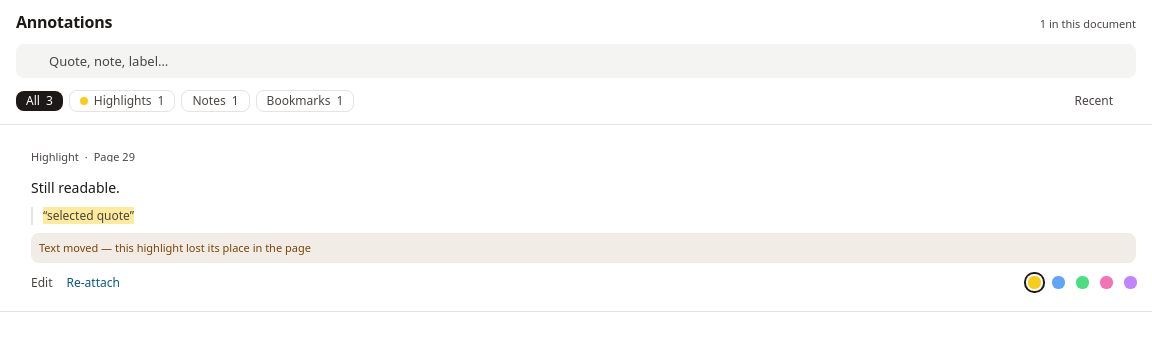
annotations panel — reference design 4a › warns only for a lost anchor and routes re-attachment through the reader
Expected: the text with test id "annotation-unanchored-warning" reads "Text moved — this highlight lost its place in the page", [31,233,1136,263]
Expected: the element with test id "annotation-note-body" reads "Still readable.", [31,178,120,197]
Click the button "Re-attach".
click(93, 283)  # box [66,277,120,289]
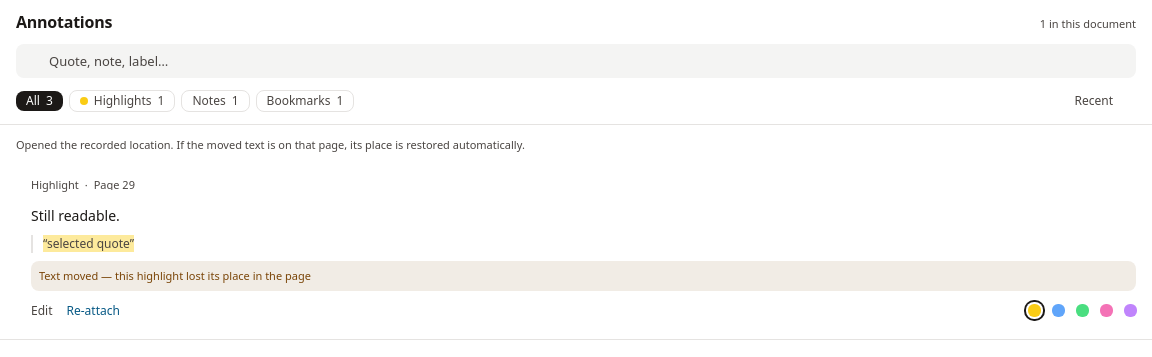
Expected: the message with test id "annotation-reattach-notice" shows "Opened the recorded location", [16,137,525,152]
